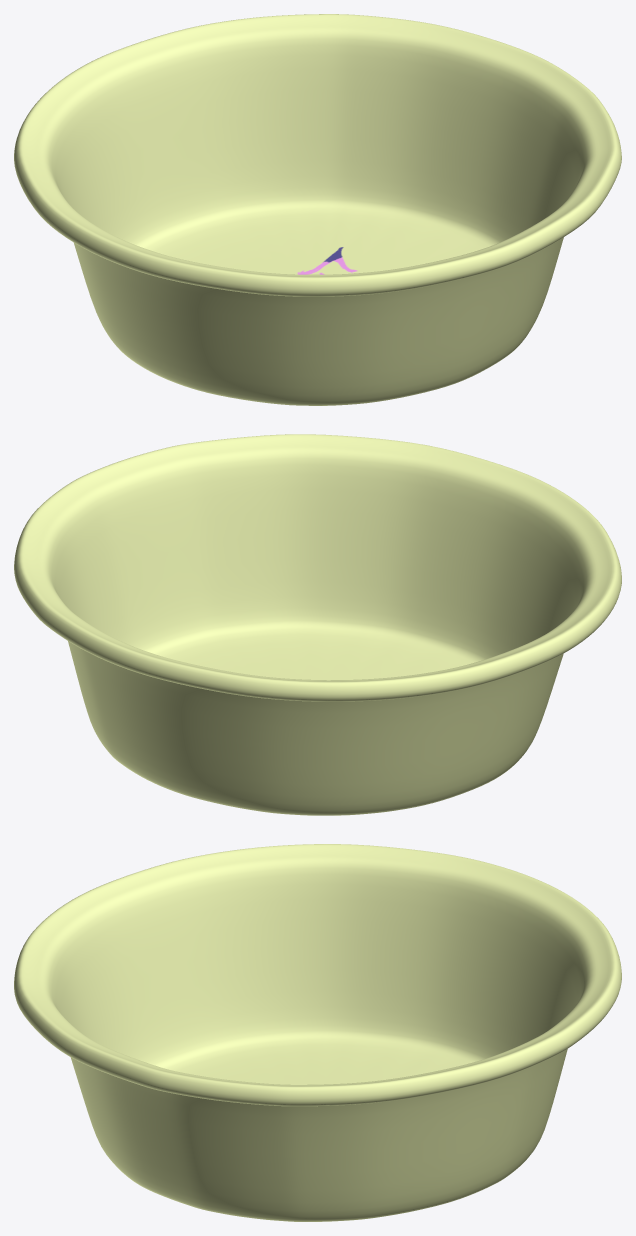
File: bucket.fbx
The picture shows the model from 3 angles, top to bottom: view 1: azimuth 30°, elevation 25°; view 2: azimuth 150°, elevation 25°; view 3: azimuth 270°, elevation 25°; orthographic projection.
Visible parts, largest first — view 1: bucket5; view 2: bucket5; view 3: bucket5.
Part boxes in pixels (left/top/right/bottom): bucket5: left=14, top=14, right=621, bottom=405; bucket5: left=14, top=434, right=621, bottom=815; bucket5: left=14, top=844, right=621, bottom=1221.
Bounding box in the file's own units: 1.63 × 0.5336 × 1.63.
1 material, 1 textured.
